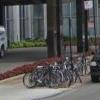Bicycle: (23, 58, 81, 95)
